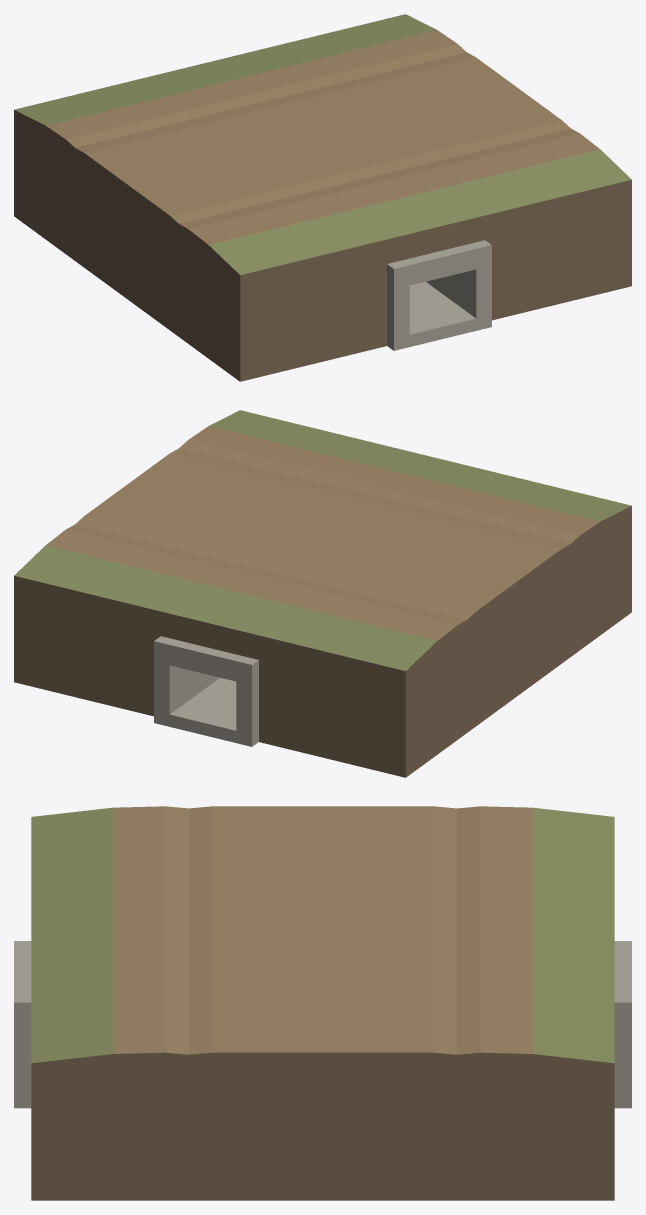
The picture shows the model from 3 angles, top to bottom: view 1: azimuth 30°, elevation 25°; view 2: azimuth 150°, elevation 25°; view 3: azimuth 270°, elevation 25°; orthographic projection. The views are drawn at different scales.
Parts seen in each view (by area): view 1: village-stone-box-culvert-2m-01; view 2: village-stone-box-culvert-2m-01; view 3: village-stone-box-culvert-2m-01.
Boxes of the visible parts, <box> form: village-stone-box-culvert-2m-01: <box>14,14,631,381</box>; village-stone-box-culvert-2m-01: <box>14,410,631,777</box>; village-stone-box-culvert-2m-01: <box>14,806,631,1200</box>.
Bounding box in the file's own units: 2 × 0.56 × 2.12.
